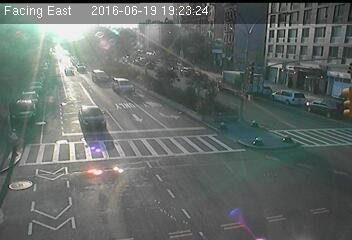neg: (232, 100, 250, 123)
